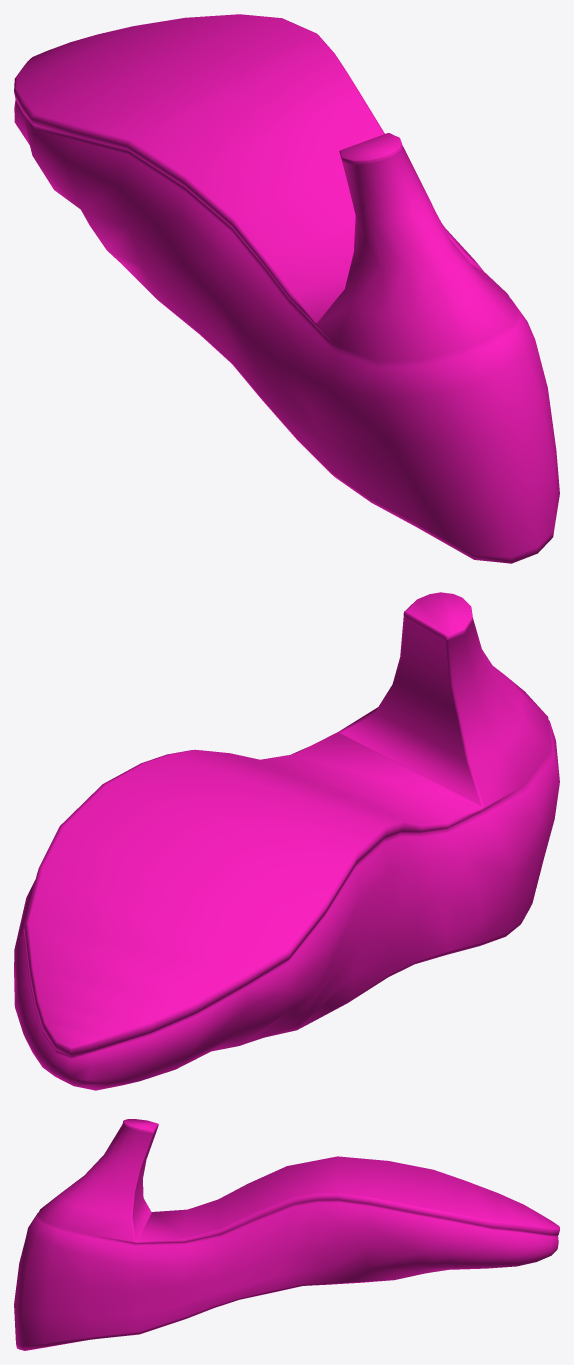
Rendered from shoe1_5.dae.
3 views of the same model, one above another, from view 1: azimuth 30°, elevation 25°; view 2: azimuth 150°, elevation 25°; view 3: azimuth 270°, elevation 25° (orthographic). The views are drawn at different scales.
Parts seen in each view (by area): view 1: shoe1_019; view 2: shoe1_019; view 3: shoe1_019.
Boxes of the visible parts, bbox=[...] form: shoe1_019: bbox=[14, 14, 559, 563]; shoe1_019: bbox=[14, 592, 559, 1090]; shoe1_019: bbox=[14, 1119, 559, 1350].
Size of the model in its own units: 0.1138 by 0.3576 by 0.1548.
